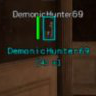hacks_1: (7, 10, 91, 66)
